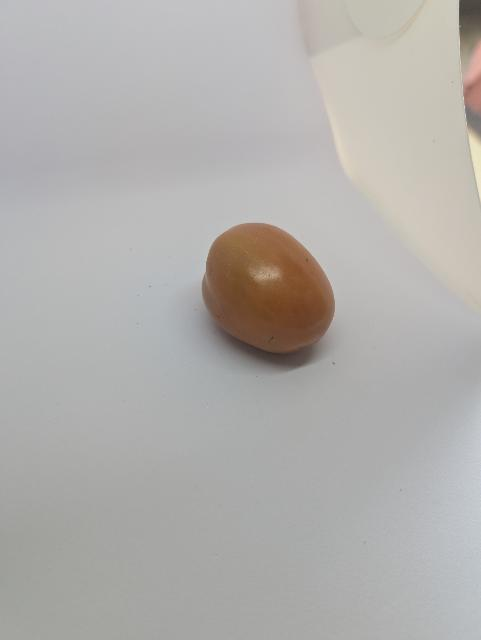turning: (192, 218, 349, 360)
